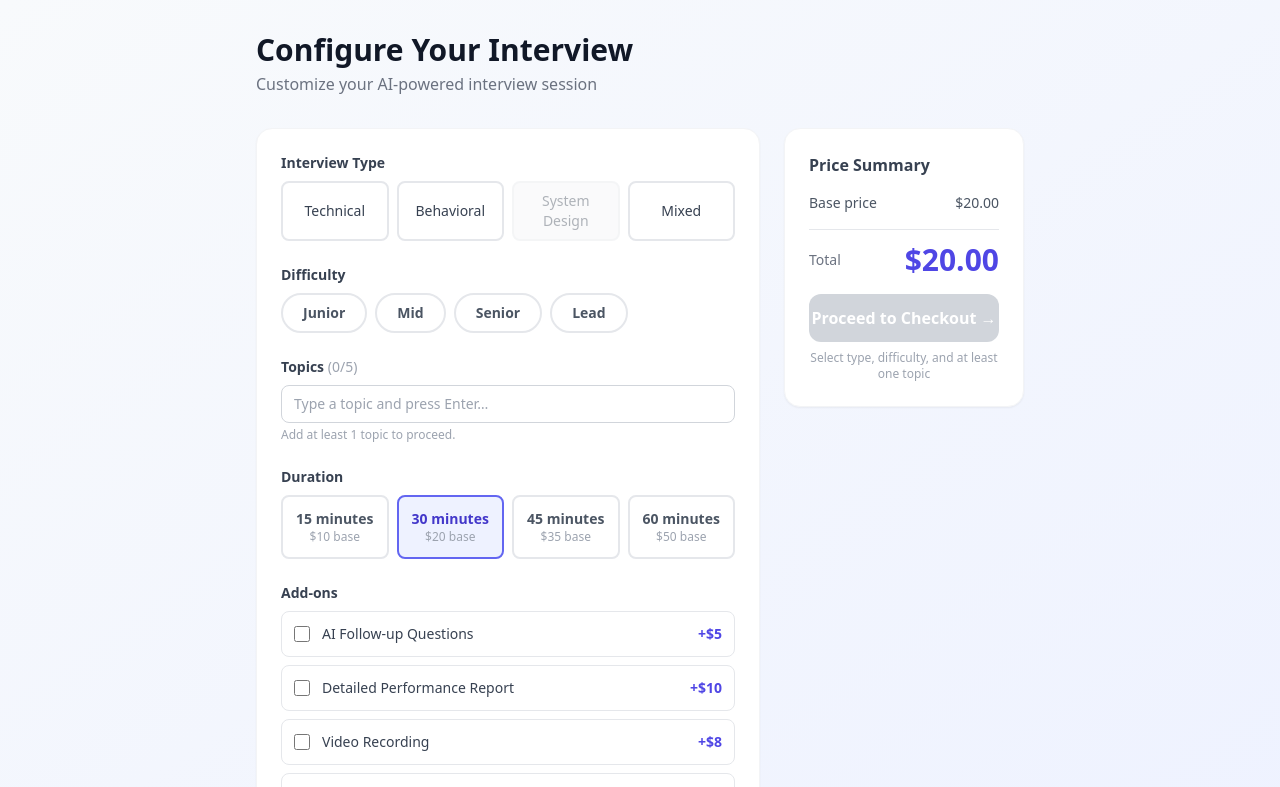
Dependency Rule 1: System Design disabled for Junior/Mid › enables System Design button when Senior difficulty is selected
Click the button "Senior".
click(498, 313)  # box x1=454 y1=293 x2=542 y2=333
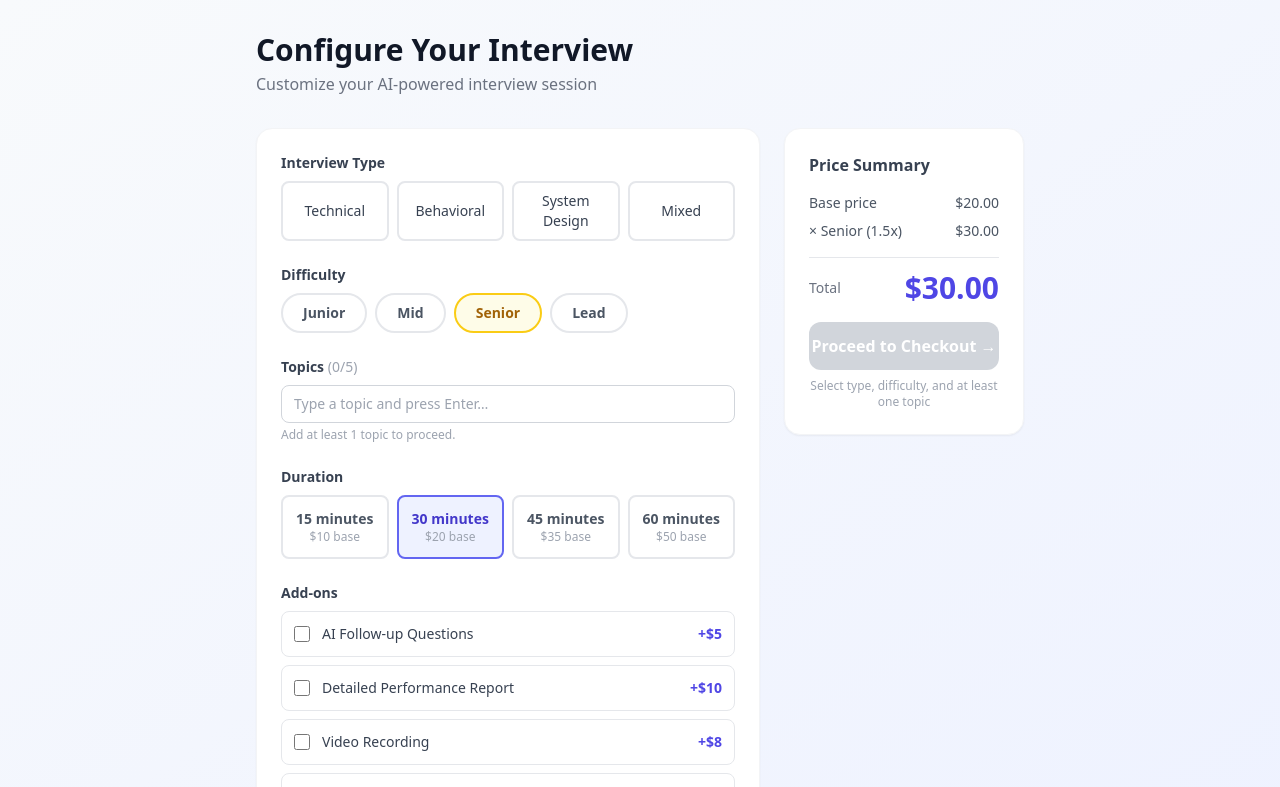
expect the button "System Design" is enabled: met, box x1=512 y1=181 x2=620 y2=241
